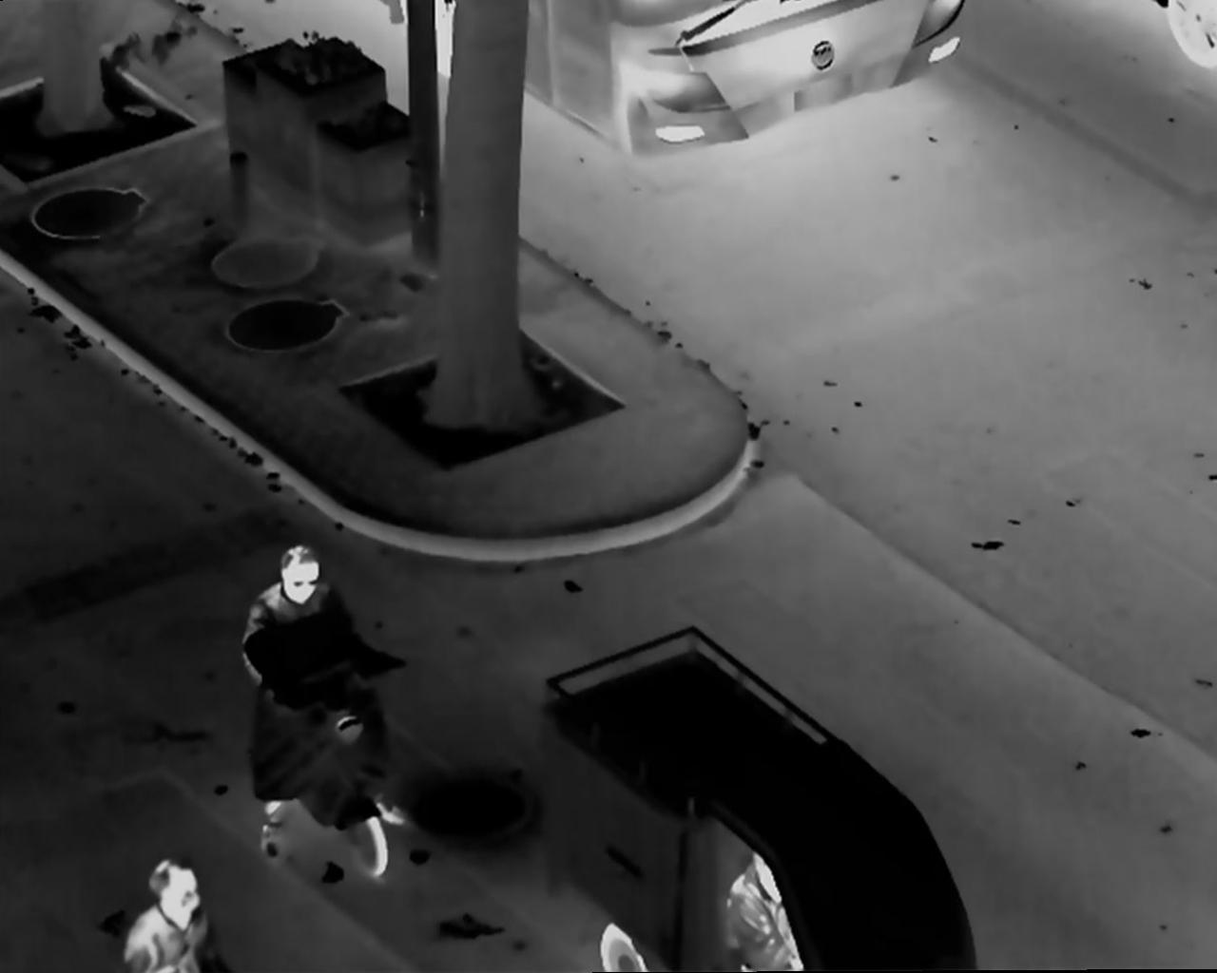person: (240, 544, 415, 860), (115, 850, 222, 973), (731, 848, 812, 973)
